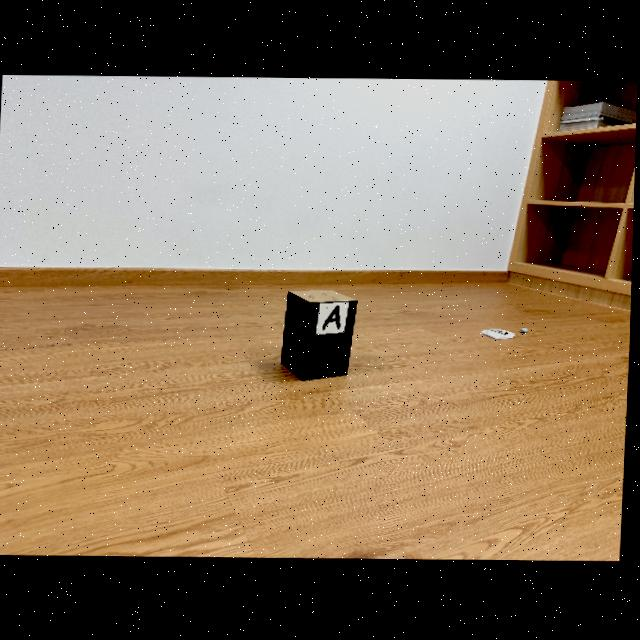A: (324, 306, 342, 328)
